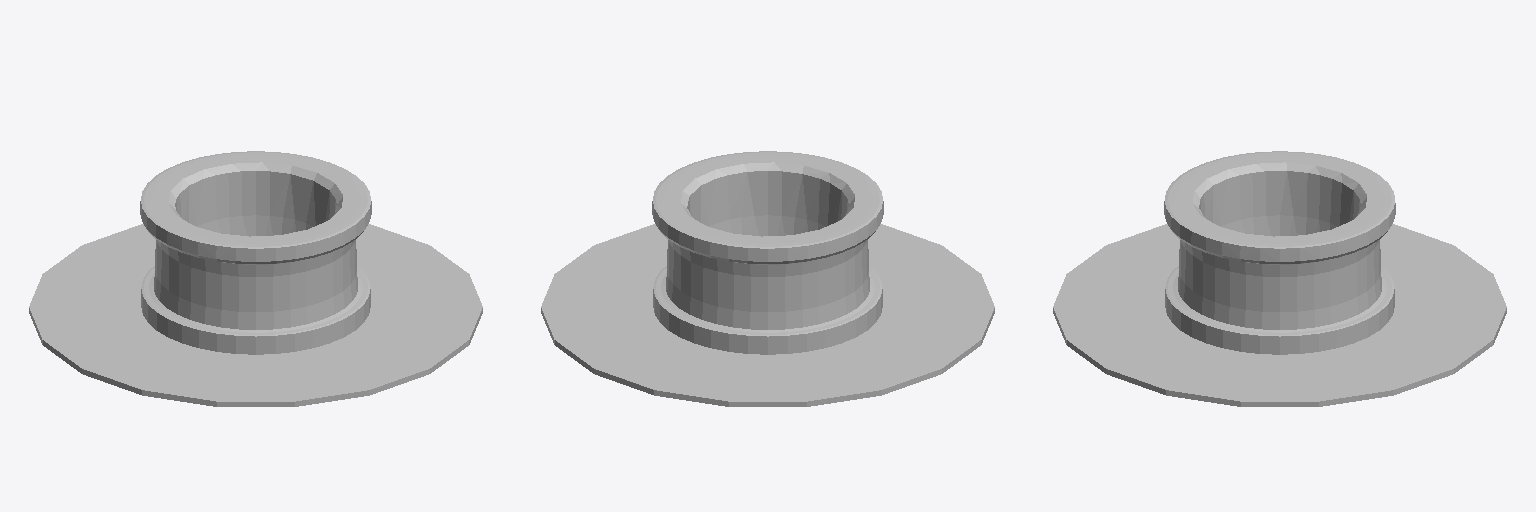
The model's file is well.obj.
3 renders of one model, left to right at view 1: azimuth 30°, elevation 25°; view 2: azimuth 150°, elevation 25°; view 3: azimuth 270°, elevation 25°, orthographic.
Parts seen in each view (by area): view 1: Cylinder.001, Cylinder; view 2: Cylinder.001, Cylinder; view 3: Cylinder.001, Cylinder.
Boxes of the visible parts, x1=… form: Cylinder.001: x1=29, y1=224, x2=482, y2=406; Cylinder: x1=140, y1=151, x2=371, y2=354; Cylinder.001: x1=541, y1=224, x2=994, y2=406; Cylinder: x1=652, y1=151, x2=883, y2=354; Cylinder.001: x1=1053, y1=224, x2=1506, y2=406; Cylinder: x1=1164, y1=151, x2=1395, y2=354.
Size of the model in its own units: 3.43 by 0.9558 by 3.48.